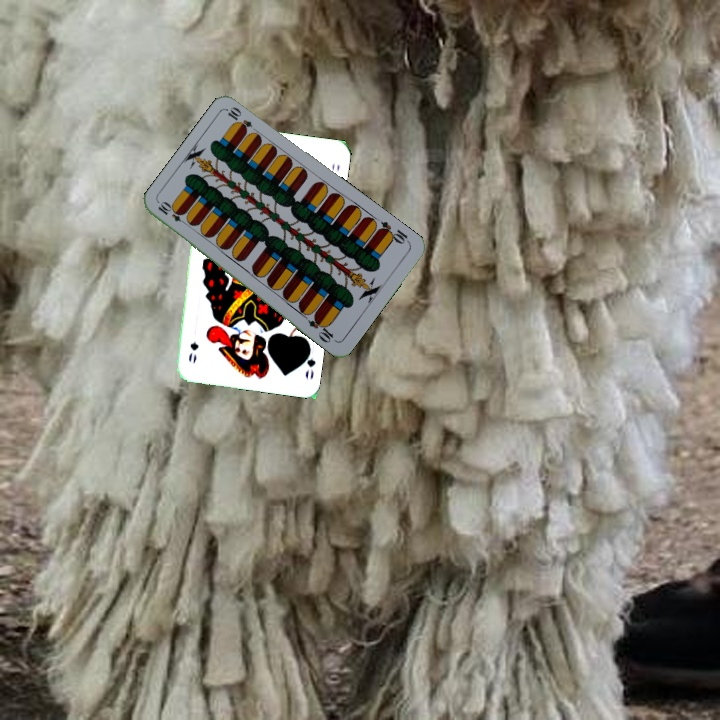E10: (374, 217, 412, 247), (154, 198, 191, 228)
GO: (298, 341, 318, 382)
